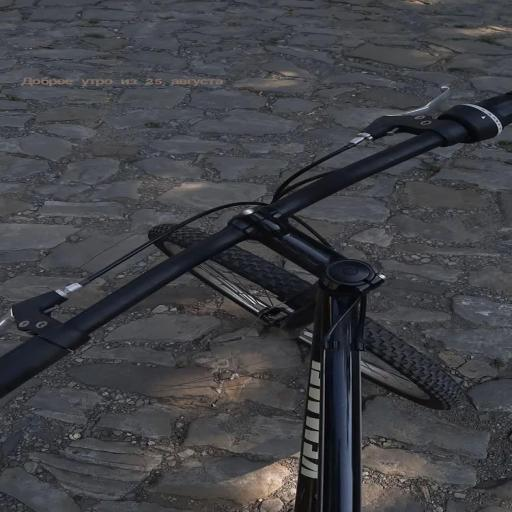bag: (0, 93, 511, 511)
